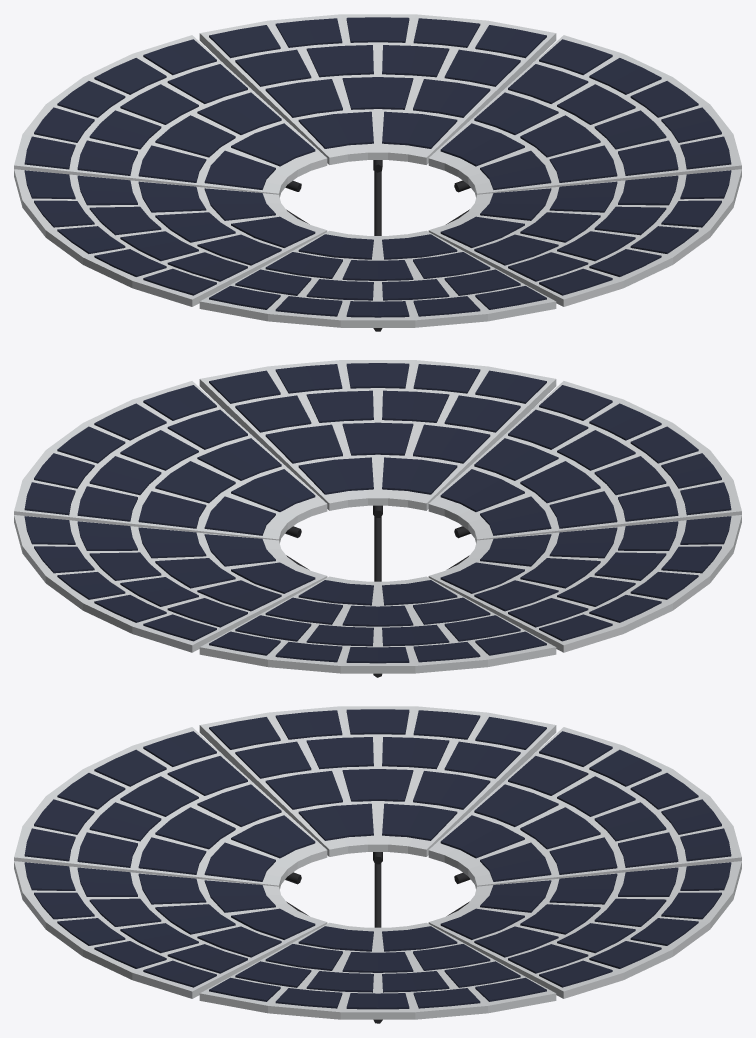
File: pa100_array.obj
3 views of the same model, one above another, from view 1: azimuth 30°, elevation 25°; view 2: azimuth 150°, elevation 25°; view 3: azimuth 270°, elevation 25° (orthographic).
Parts seen in each view (by area): view 1: pa100_array; view 2: pa100_array; view 3: pa100_array.
Part boxes in pixels (x1,y1,x2,y2): pa100_array: (14,14,741,331); pa100_array: (14,360,741,677); pa100_array: (14,706,741,1023).
Bounding box in the file's own units: 4.39 × 0.6846 × 4.41.
